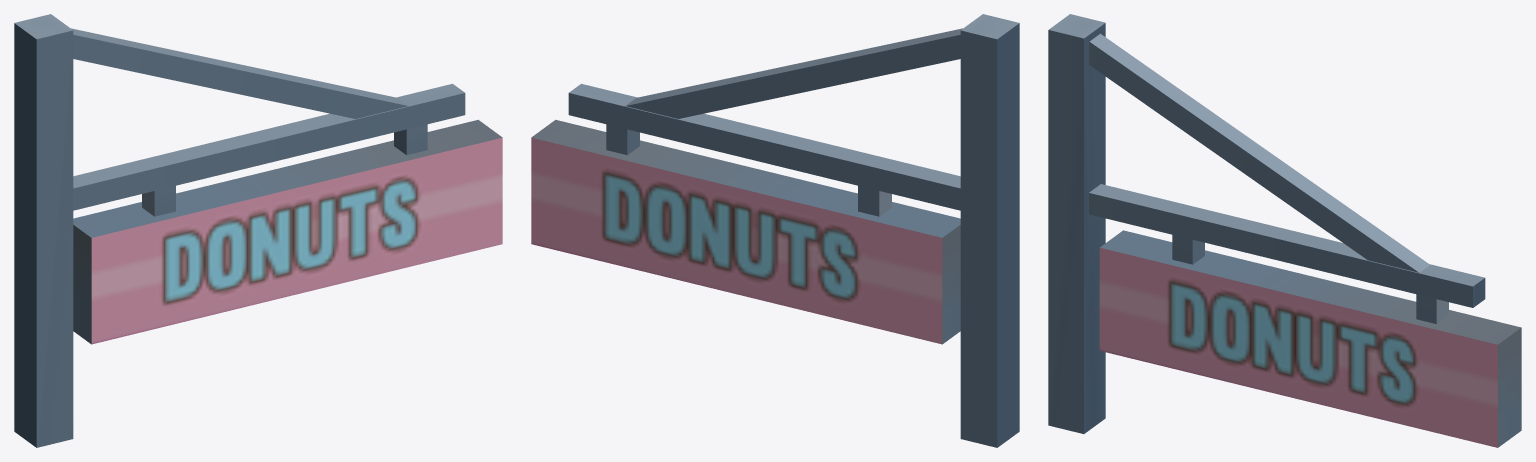
File: SM_Sign_Donuts_01.fbx
3 views of the same model, side by side, from view 1: azimuth 30°, elevation 25°; view 2: azimuth 150°, elevation 25°; view 3: azimuth 330°, elevation 25° (orthographic). The views are drawn at different scales.
Visible parts, largest first — view 1: SM_Sign_Donuts_01; view 2: SM_Sign_Donuts_01; view 3: SM_Sign_Donuts_01.
Part boxes in pixels (box(x1,y1,x2,y2)): SM_Sign_Donuts_01: box(14, 14, 502, 447); SM_Sign_Donuts_01: box(531, 14, 1019, 447); SM_Sign_Donuts_01: box(1048, 14, 1521, 447).
Size of the model in its own units: 2.35 by 1.97 by 0.2137.
